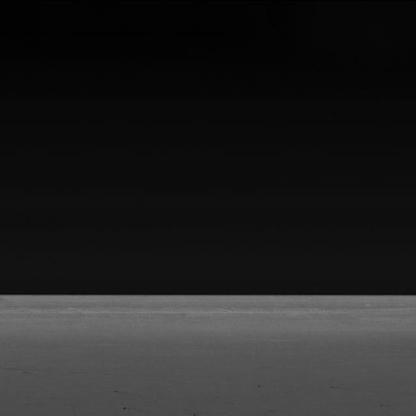inclusion: (118, 404, 135, 412)
